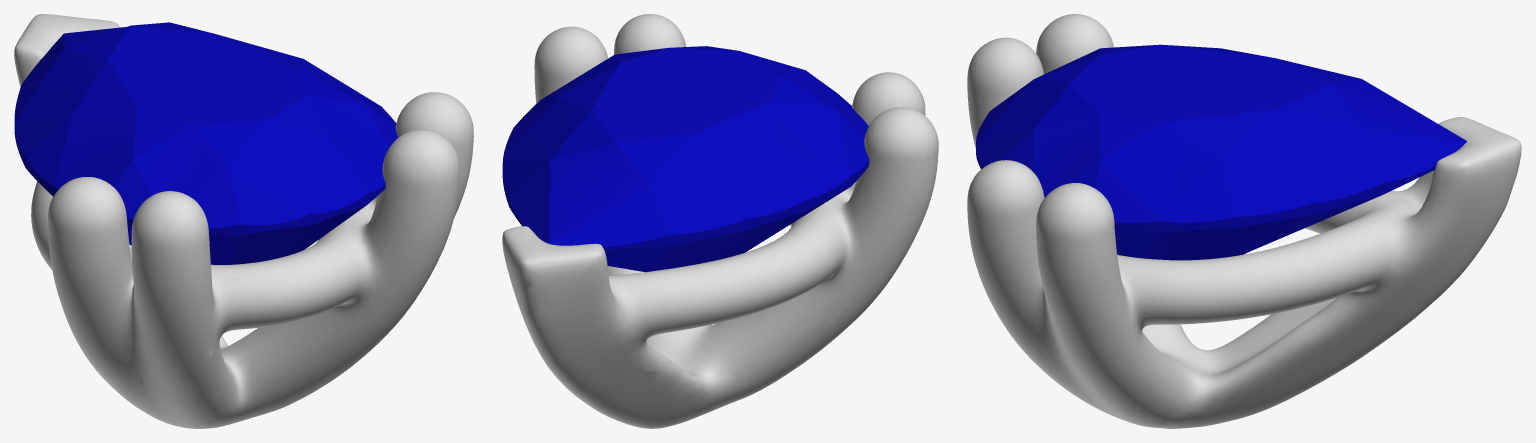
The model's file is Pear.glb.
The picture shows the model from 3 angles, left to right: view 1: azimuth 30°, elevation 25°; view 2: azimuth 150°, elevation 25°; view 3: azimuth 270°, elevation 25°; orthographic projection. The views are drawn at different scales.
Visible parts, largest first — view 1: /GSMOD388300- DOUBLE PRONG_PEAR_IJ.3dm, Diamond_Pear; view 2: /GSMOD388300- DOUBLE PRONG_PEAR_IJ.3dm, Diamond_Pear; view 3: /GSMOD388300- DOUBLE PRONG_PEAR_IJ.3dm, Diamond_Pear.
Part boxes in pixels (box(x1,y1,x2,y2)): /GSMOD388300- DOUBLE PRONG_PEAR_IJ.3dm: box(14, 14, 473, 428); Diamond_Pear: box(14, 22, 398, 264); /GSMOD388300- DOUBLE PRONG_PEAR_IJ.3dm: box(502, 14, 938, 428); Diamond_Pear: box(502, 46, 869, 272); /GSMOD388300- DOUBLE PRONG_PEAR_IJ.3dm: box(967, 14, 1521, 428); Diamond_Pear: box(976, 44, 1466, 260).
Bounding box in the file's own units: 8.38 × 6.59 × 9.72.
